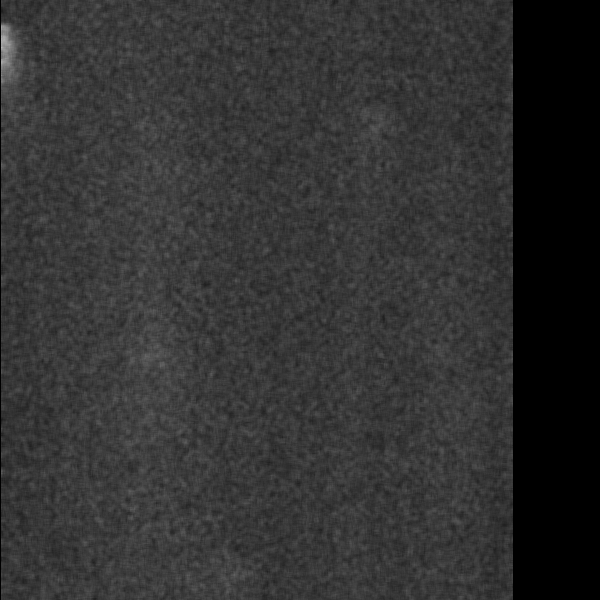spark: (97, 345, 188, 376)
